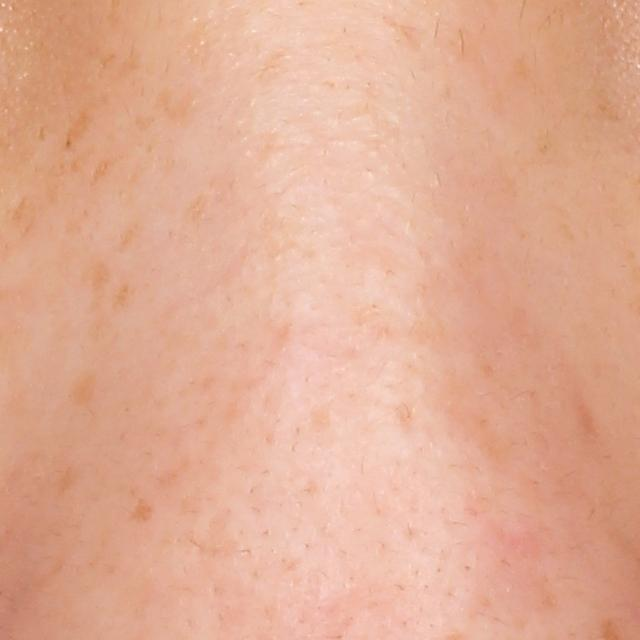melasma: (57, 101, 95, 158), (87, 258, 111, 346), (66, 366, 100, 414), (114, 217, 143, 258), (59, 462, 86, 493), (127, 497, 154, 525), (110, 277, 128, 312)
